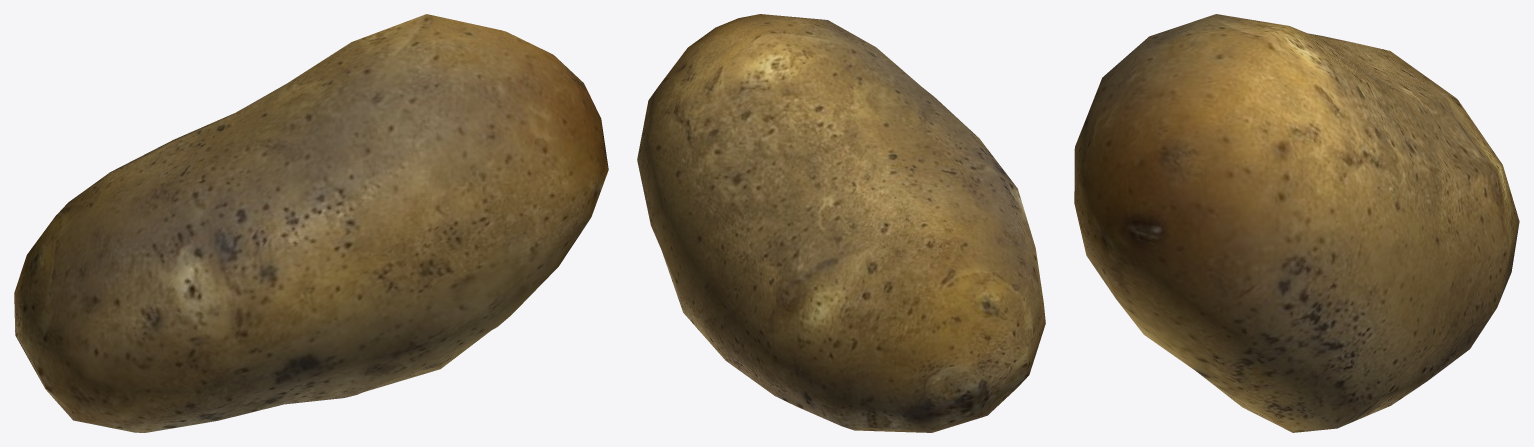
File: A46_Potato_low.fbx
3 renders of one model, left to right at view 1: azimuth 30°, elevation 25°; view 2: azimuth 150°, elevation 25°; view 3: azimuth 270°, elevation 25°, orthographic. The views are drawn at different scales.
Visible parts, largest first — view 1: A46_Potato_low; view 2: A46_Potato_low; view 3: A46_Potato_low.
Part boxes in pixels (<box>): A46_Potato_low: <box>14,14,608,432</box>; A46_Potato_low: <box>637,14,1045,432</box>; A46_Potato_low: <box>1074,14,1519,432</box>.
Size of the model in its own units: 15.34 by 10.96 by 10.97.
1 material, 1 textured.
